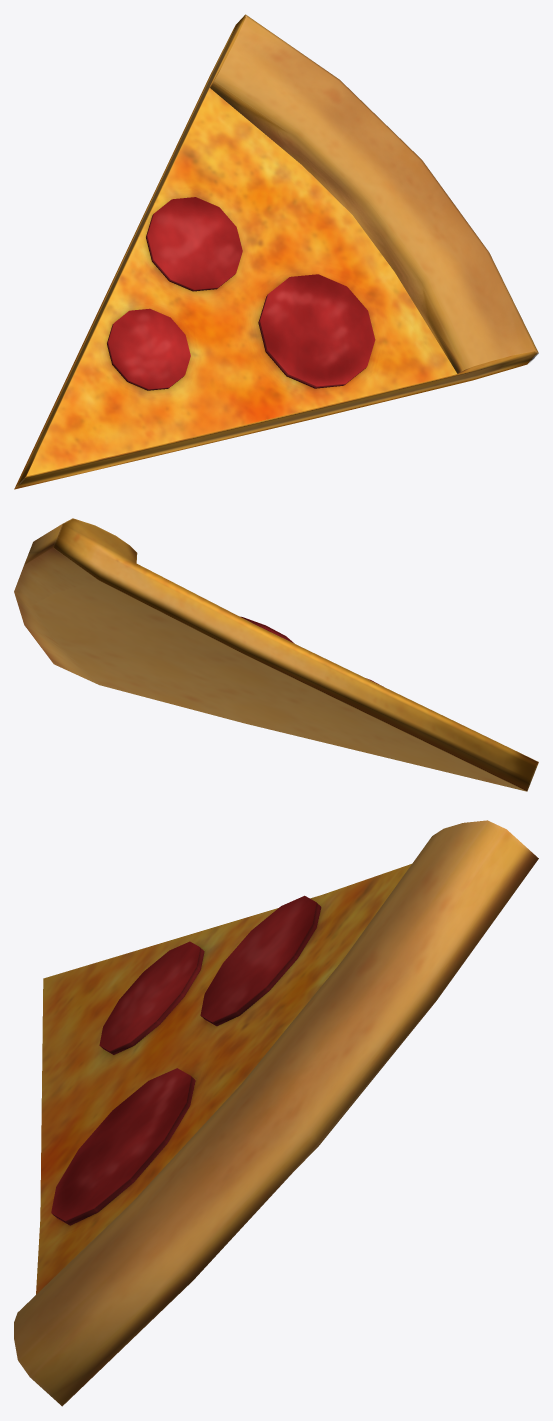
Rendered from Pizza.fbx.
3 renders of one model, top to bottom at view 1: azimuth 30°, elevation 25°; view 2: azimuth 150°, elevation 25°; view 3: azimuth 270°, elevation 25°, orthographic. The views are drawn at different scales.
Parts seen in each view (by area): view 1: PizzaSlice1; view 2: PizzaSlice1; view 3: PizzaSlice1.
Boxes of the visible parts, <box> form: PizzaSlice1: <box>14,14,538,489</box>; PizzaSlice1: <box>14,518,538,791</box>; PizzaSlice1: <box>14,820,538,1406</box>.
Bounding box in the file's own units: 9.81 × 5.45 × 5.42.
